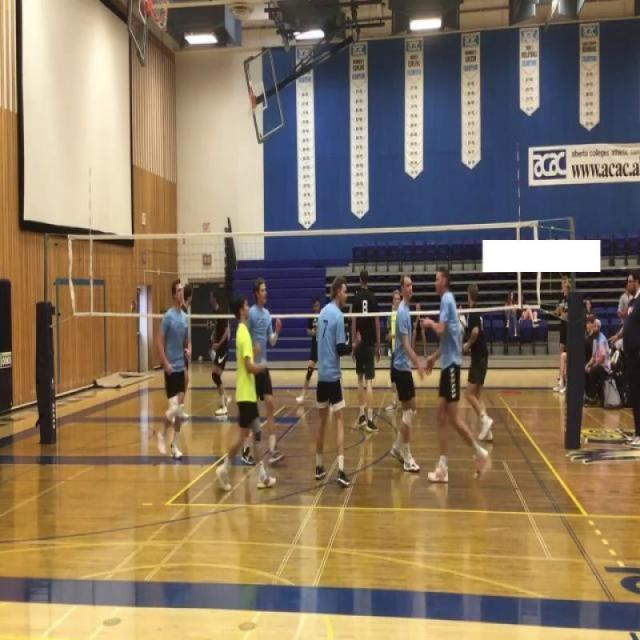volleyball: (208, 348, 216, 362), (198, 355, 203, 364)
